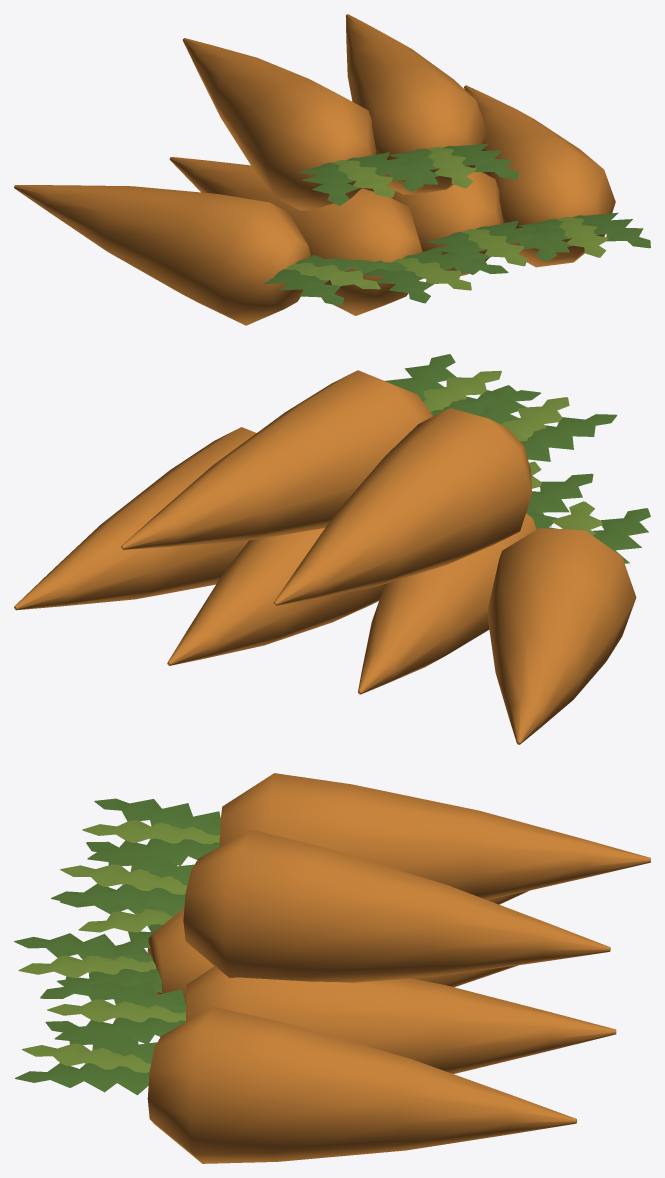
Rendered from pile-vegetable-6.gltf.
3 renders of one model, top to bottom at view 1: azimuth 30°, elevation 25°; view 2: azimuth 150°, elevation 25°; view 3: azimuth 270°, elevation 25°, orthographic. The views are drawn at different scales.
Visible parts, largest first — view 1: pile-vegetable-6; view 2: pile-vegetable-6; view 3: pile-vegetable-6.
Part boxes in pixels (<box>): pile-vegetable-6: <box>14,14,650,325</box>; pile-vegetable-6: <box>14,354,650,744</box>; pile-vegetable-6: <box>14,773,650,1163</box>.
Bounding box in the file's own units: 0.6447 × 0.272 × 0.6406.
